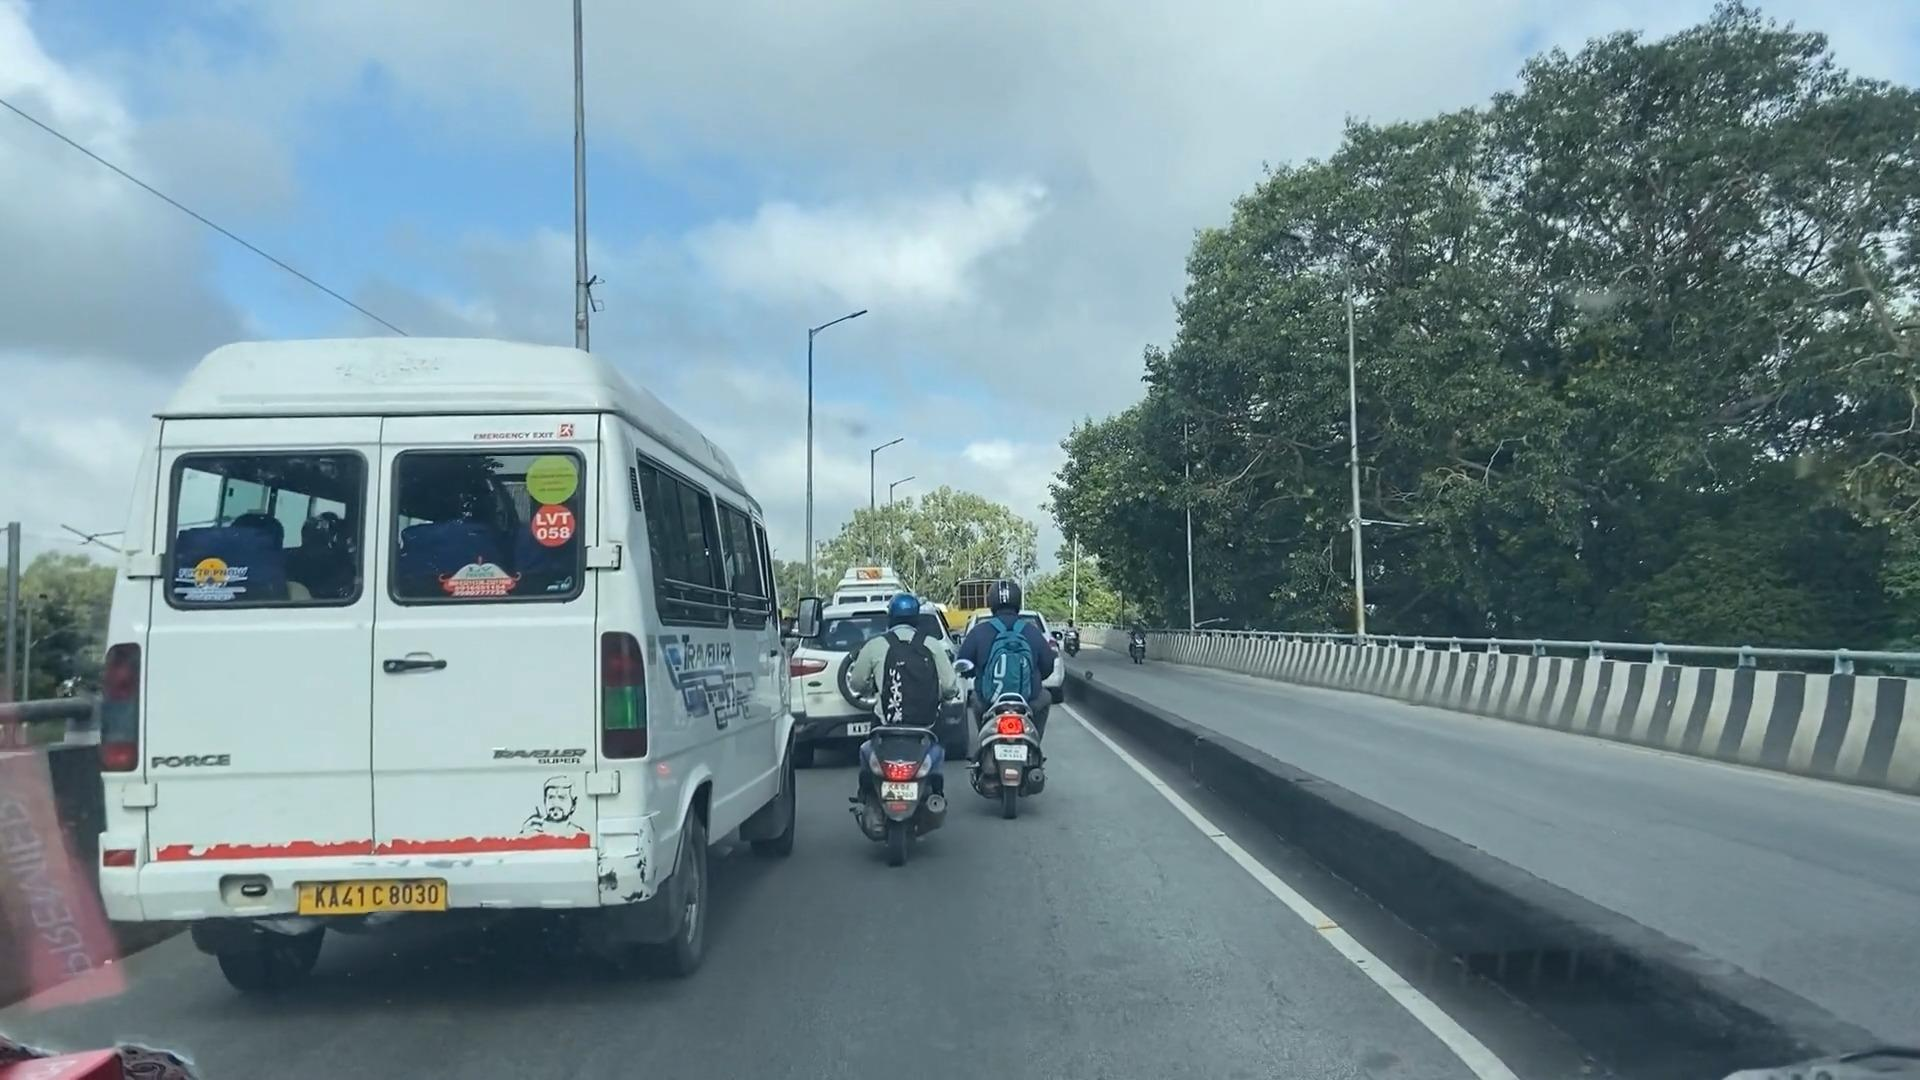HMV: (119, 340, 781, 955)
LMV: (862, 574, 953, 873), (977, 582, 1067, 828)
